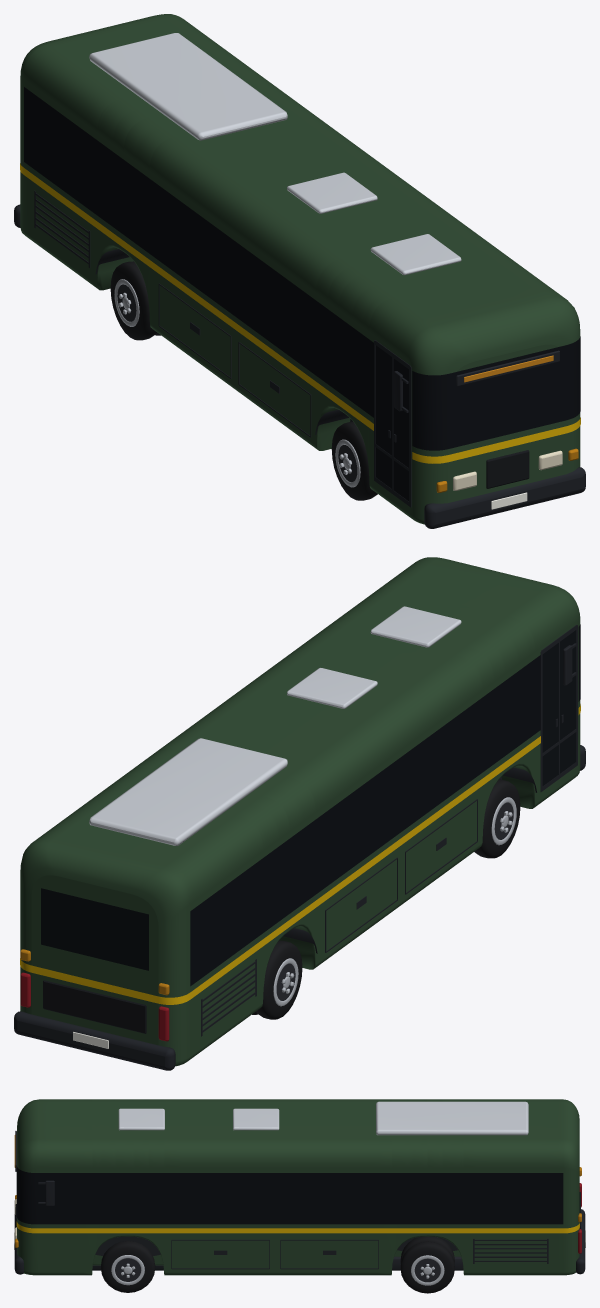
File: bus.glb
3 renders of one model, top to bottom at view 1: azimuth 30°, elevation 25°; view 2: azimuth 150°, elevation 25°; view 3: azimuth 270°, elevation 25°, orthographic. The views are drawn at different scales.
Visible parts, largest first — view 1: bus_body, bus_glass, roof_ac, bus_stripe, bus_door_glass, bumper_f, panel_lines, roof_hatch_a, roof_hatch_b, wheel_r_r_tyre1, wheel_f_r_tyre, bus_door_frame (+2 smaller); view 2: bus_body, bus_glass, roof_ac, bus_rear_glass, bus_stripe, bus_door_glass, bumper_r, louvre_r, roof_hatch_b, roof_hatch_a, panel_lines, wheel_r_r_tyre1 (+2 smaller); view 3: bus_body, bus_glass, roof_ac, bus_stripe, panel_lines, wheel_f_l_tyre, wheel_r_l_tyre1, roof_hatch_a, roof_hatch_b, wheelhouses, wheel_r_l_rim, wheel_f_l_rim (+6 smaller).
Boxes of the visible parts, left/top/right/bottom form: bus_body: left=20, top=14, right=580, bottom=524; bus_glass: left=24, top=87, right=580, bottom=450; roof_ac: left=89, top=33, right=287, bottom=140; bus_stripe: left=20, top=163, right=580, bottom=463; bus_door_glass: left=376, top=345, right=408, bottom=501; bumper_f: left=424, top=467, right=585, bottom=528; panel_lines: left=34, top=190, right=311, bottom=437; roof_hatch_a: left=287, top=172, right=377, bottom=213; roof_hatch_b: left=370, top=234, right=461, bottom=275; wheel_r_r_tyre1: left=110, top=261, right=156, bottom=340; wheel_f_r_tyre: left=331, top=421, right=377, bottom=500; bus_door_frame: left=374, top=340, right=411, bottom=507; bus_body: left=20, top=557, right=580, bottom=1066; bus_glass: left=190, top=624, right=580, bottom=986; roof_ac: left=89, top=738, right=287, bottom=845; bus_rear_glass: left=41, top=888, right=148, bottom=970; bus_stripe: left=20, top=704, right=580, bottom=1004; bus_door_glass: left=542, top=630, right=575, bottom=785; bumper_r: left=14, top=1011, right=175, bottom=1070; louvre_r: left=43, top=980, right=146, bottom=1033; roof_hatch_b: left=370, top=606, right=461, bottom=647; roof_hatch_a: left=287, top=668, right=377, bottom=708; panel_lines: left=201, top=799, right=477, bottom=1036; wheel_r_r_tyre1: left=256, top=940, right=302, bottom=1019; bus_body: left=17, top=1099, right=579, bottom=1275; bus_glass: left=16, top=1166, right=563, bottom=1224; roof_ac: left=376, top=1101, right=528, bottom=1135; bus_stripe: left=16, top=1221, right=579, bottom=1233; panel_lines: left=171, top=1238, right=548, bottom=1269; wheel_f_l_tyre: left=101, top=1241, right=155, bottom=1292; wheel_r_l_tyre1: left=400, top=1241, right=454, bottom=1293; roof_hatch_a: left=233, top=1108, right=279, bottom=1130; roof_hatch_b: left=118, top=1108, right=164, bottom=1130; wheelhouses: left=95, top=1236, right=457, bottom=1255; wheel_r_l_rim: left=411, top=1255, right=444, bottom=1285; wheel_f_l_rim: left=111, top=1255, right=144, bottom=1285.
Size of the model in its own units: 2.5 by 3.1 by 10.5.
